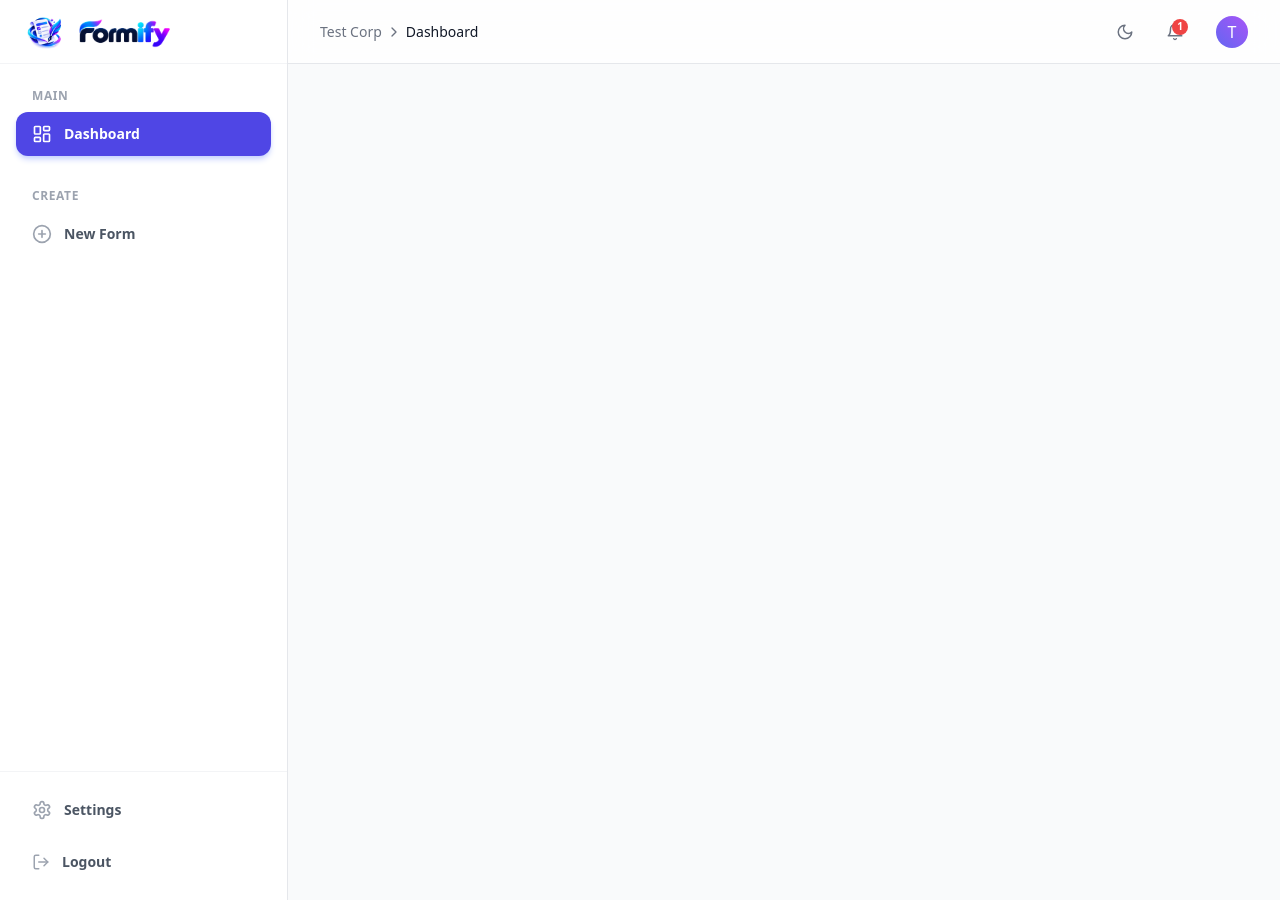
Test: Profile, Notifications, and Settings Features › 1. Profile data loads and menu opens
Check: the text "Test Corp" is shown, box 320,22 -> 382,42
What coordinates should you click on to do the following:
click the text "T"
I would click on:
 (1232, 32)
Its box is 1216,16 -> 1248,48.
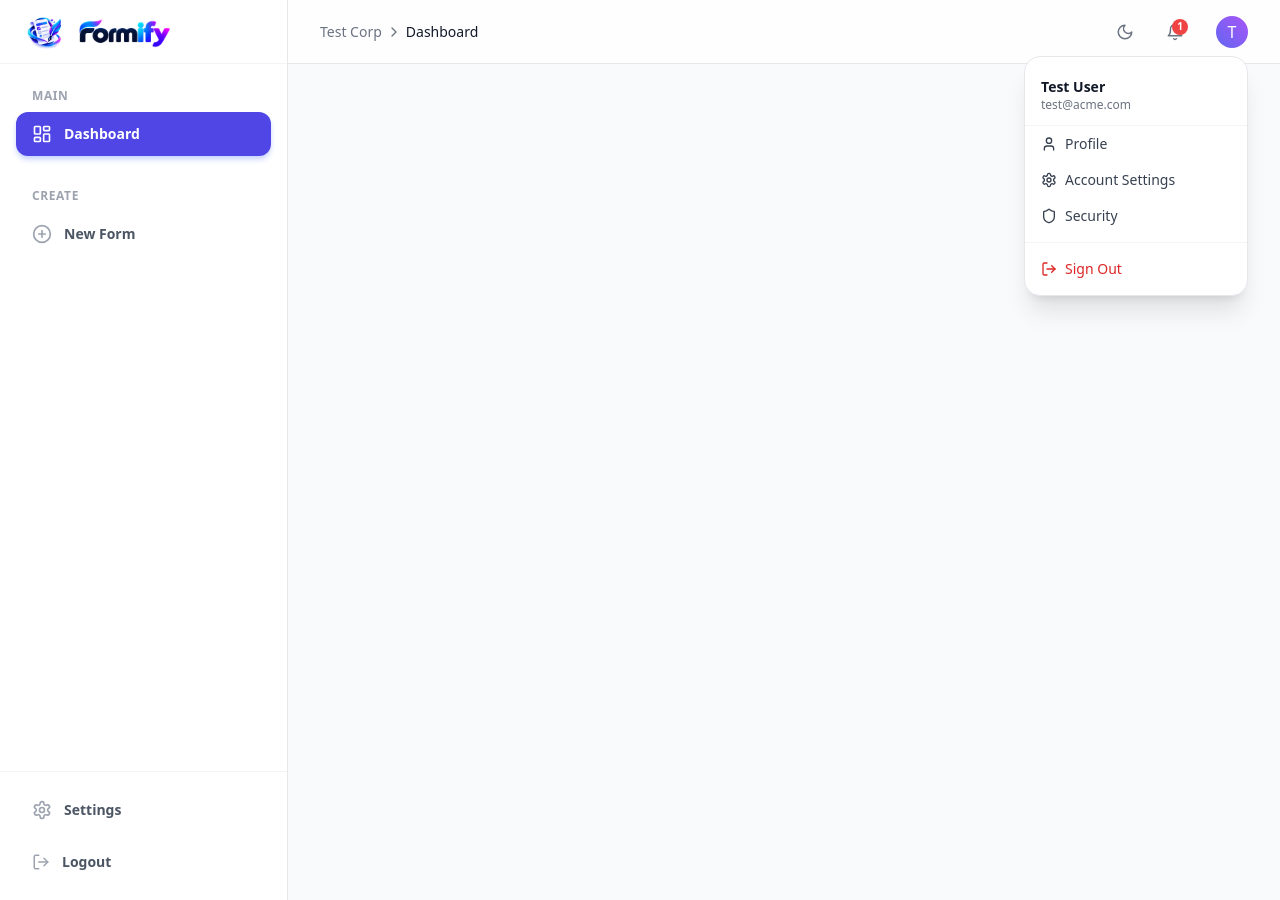
Check: the text "Test User" is shown, box 1041,76 -> 1105,96
Check: the text "test@acme.com" is shown, box 1041,96 -> 1131,112
